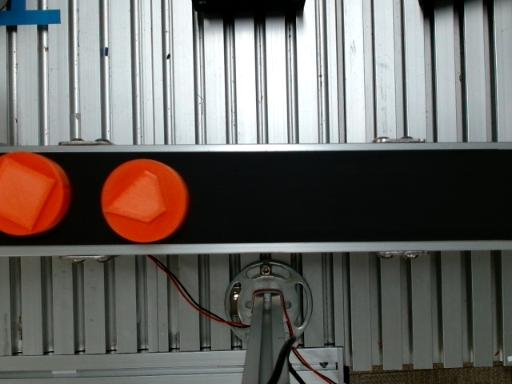Not_Square: (103, 169, 167, 221)
Orange_Waper: (101, 159, 189, 242), (0, 152, 70, 235)
